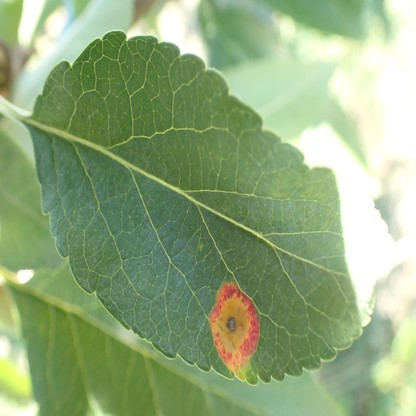rust: (209, 283, 260, 368)
